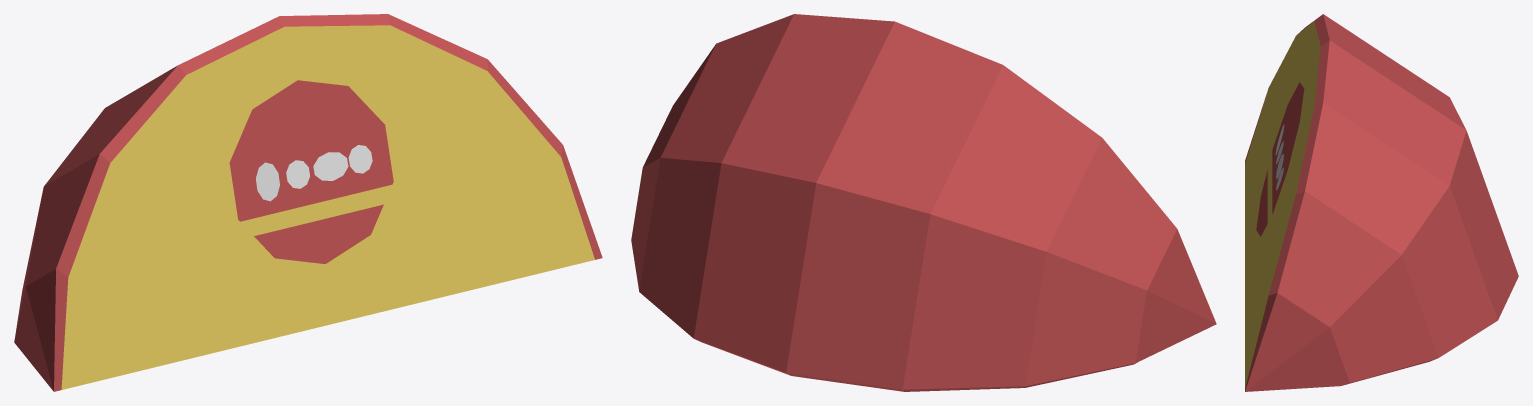
Rendered from Ma_Cheese_2.fbx.
The picture shows the model from 3 angles, left to right: view 1: azimuth 30°, elevation 25°; view 2: azimuth 150°, elevation 25°; view 3: azimuth 270°, elevation 25°; orthographic projection. The views are drawn at different scales.
Visible parts, largest first — view 1: Ma_Cheese_2; view 2: Ma_Cheese_2; view 3: Ma_Cheese_2.
Part boxes in pixels (x1=…): Ma_Cheese_2: x1=14, y1=14, x2=602, y2=391; Ma_Cheese_2: x1=631, y1=14, x2=1216, y2=391; Ma_Cheese_2: x1=1245, y1=14, x2=1518, y2=391.
Bounding box in the file's own units: 155 × 77.6 × 75.64.
